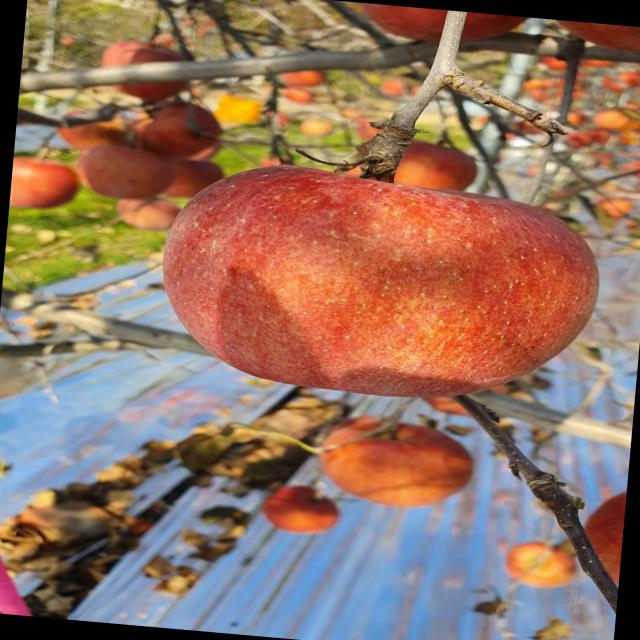fresh: (132, 148, 622, 423)
